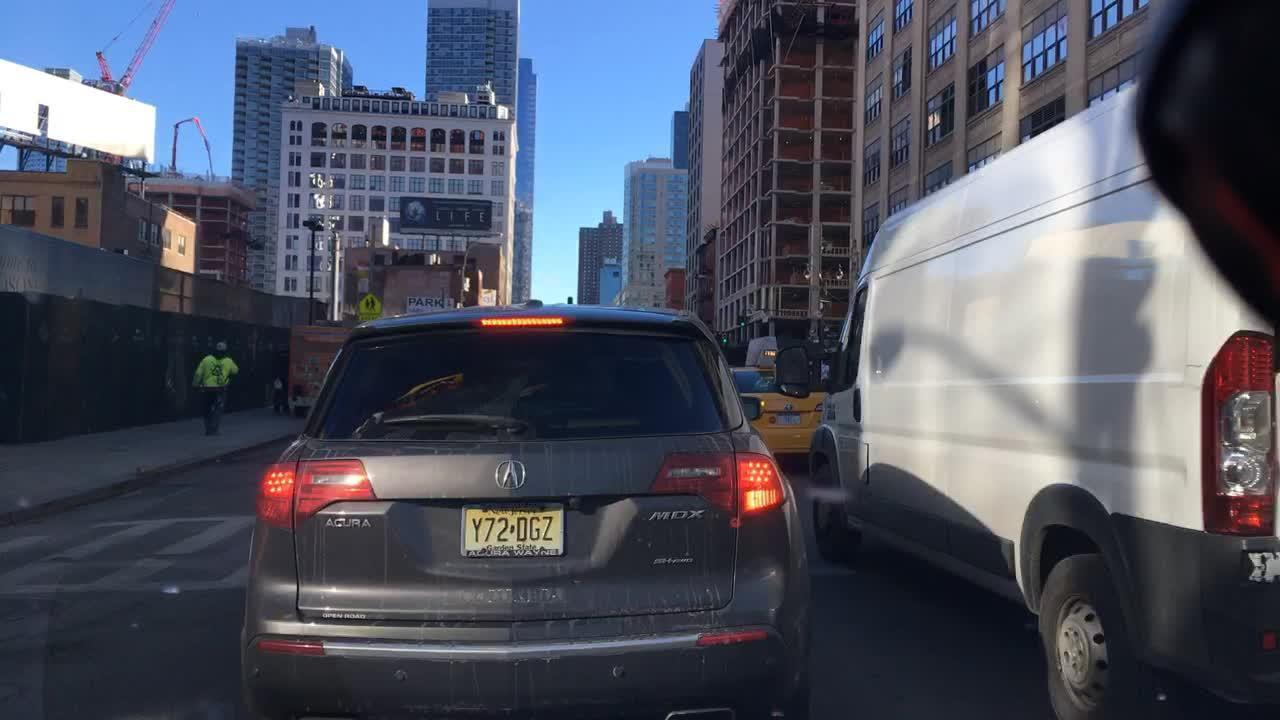acura: (487, 453, 534, 494)
